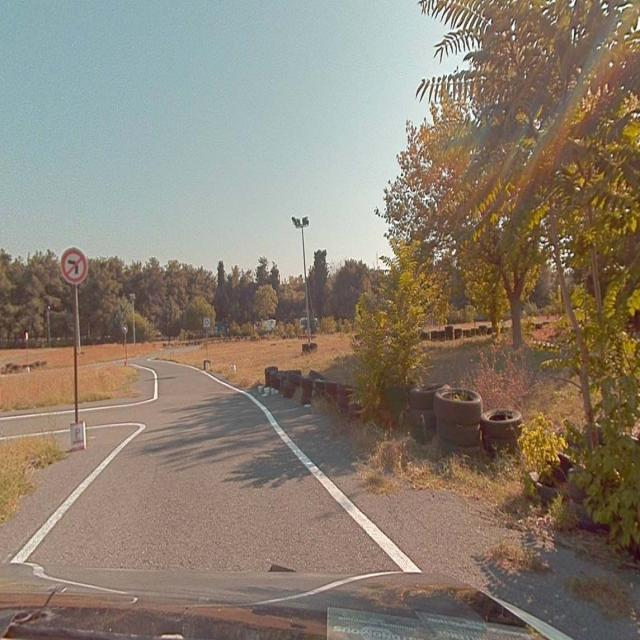durak: (203, 317, 210, 328)
soladonulmez: (62, 250, 84, 282)
